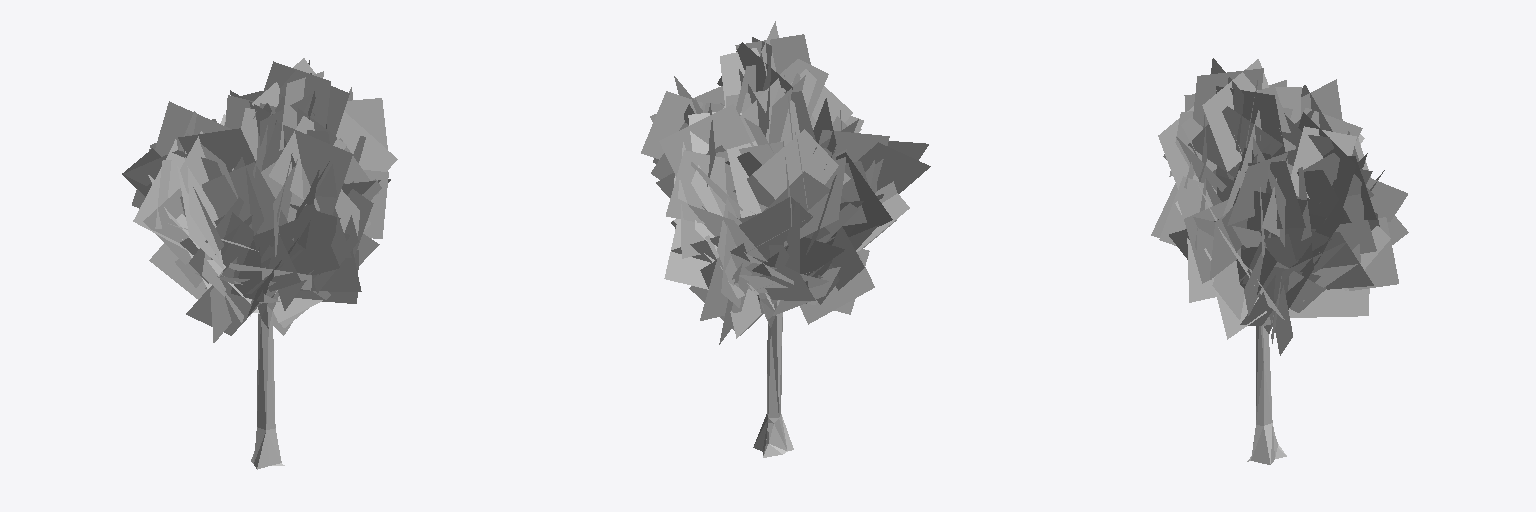
File: tree_02_a_lod1.obj
3 views of the same model, side by side, from view 1: azimuth 30°, elevation 25°; view 2: azimuth 150°, elevation 25°; view 3: azimuth 270°, elevation 25° (orthographic).
Parts seen in each view (by area): view 1: tree_02_a_lod1; view 2: tree_02_a_lod1; view 3: tree_02_a_lod1.
Part boxes in pixels (x1,y1,x2,y2): tree_02_a_lod1: (122, 58, 397, 469); tree_02_a_lod1: (641, 21, 930, 457); tree_02_a_lod1: (1151, 58, 1408, 464).
Size of the model in its own units: 226 by 349 by 204.